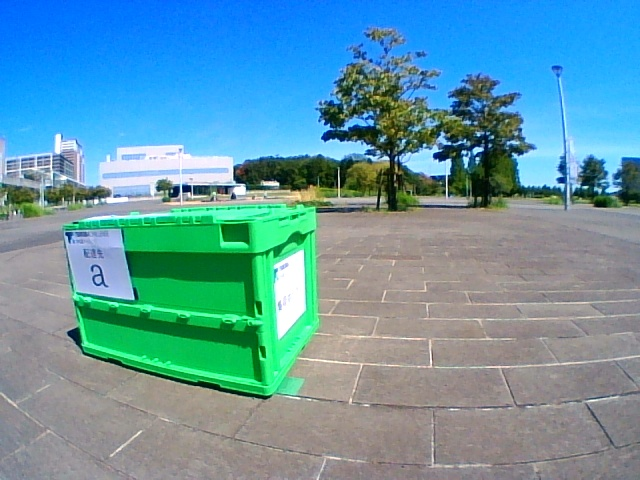green_box: (63, 203, 319, 396), (76, 243, 124, 291)
